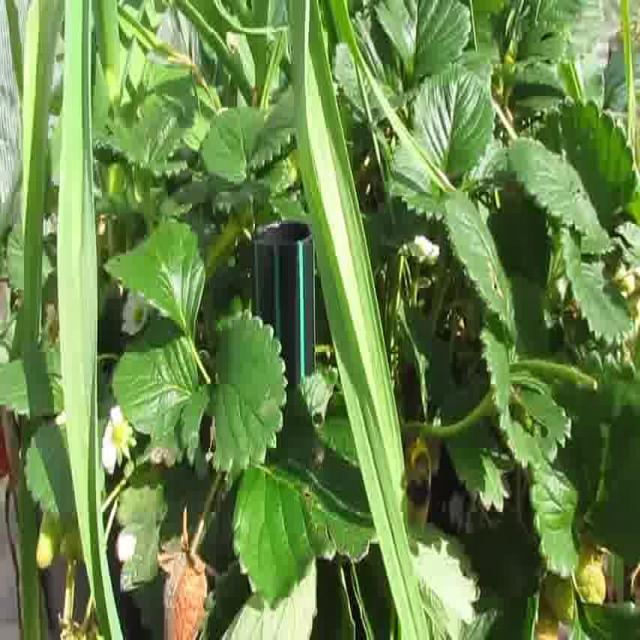Fruta sana: (538, 509, 608, 626), (36, 506, 71, 568), (522, 593, 559, 640), (112, 425, 124, 445)
Moho gris: (163, 549, 208, 640)
